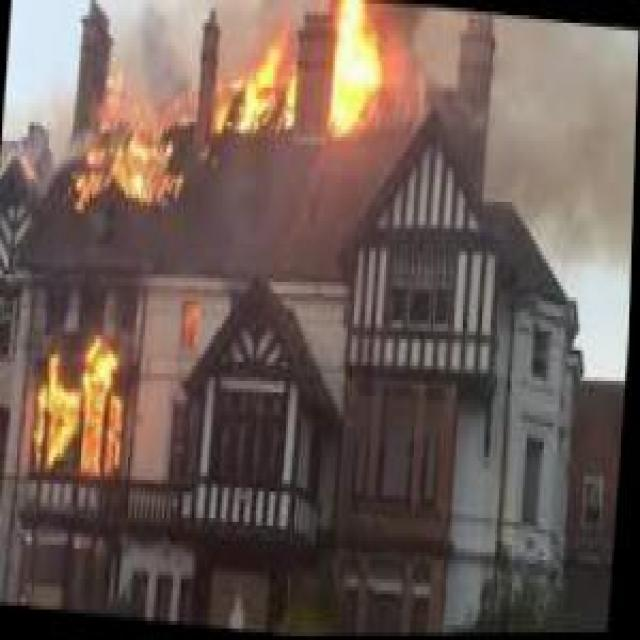Fire: (56, 68, 212, 228), (17, 316, 143, 492), (322, 0, 437, 149), (209, 12, 333, 148)
Smoke: (484, 12, 638, 290)
